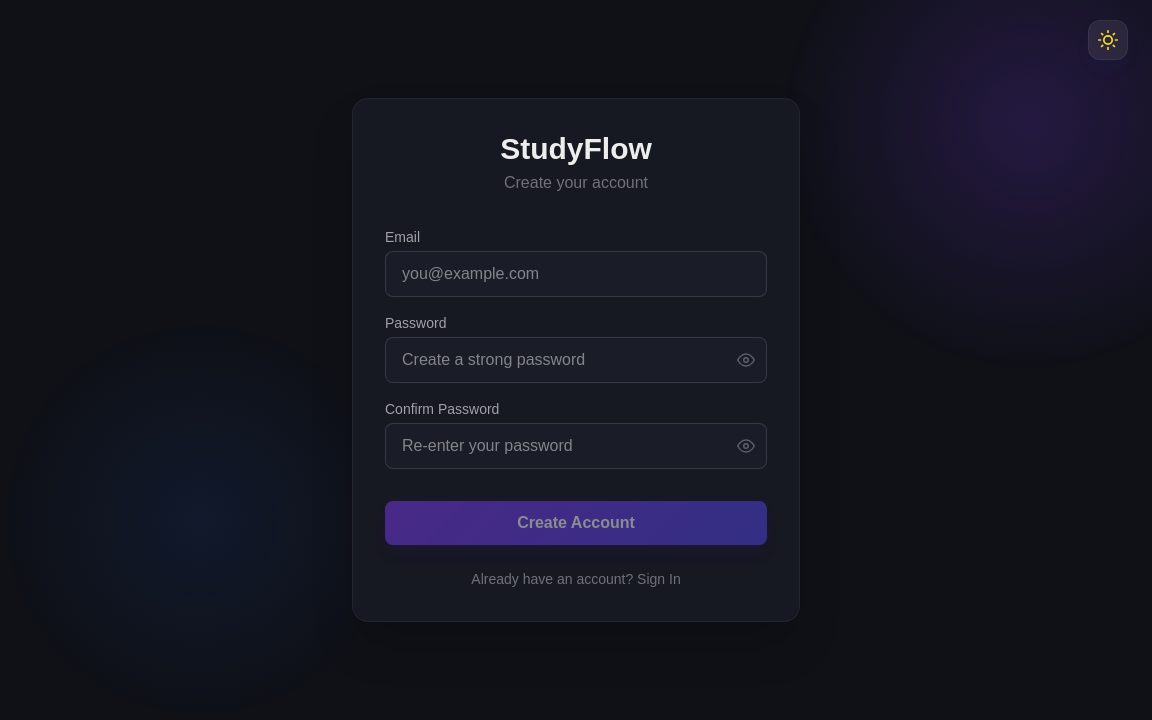
it: RegisterPage › shows password strength bar when typing password
Type "abc" into the password field with placeholder "Create a strong password" at (576, 360), box [385, 337, 767, 383]
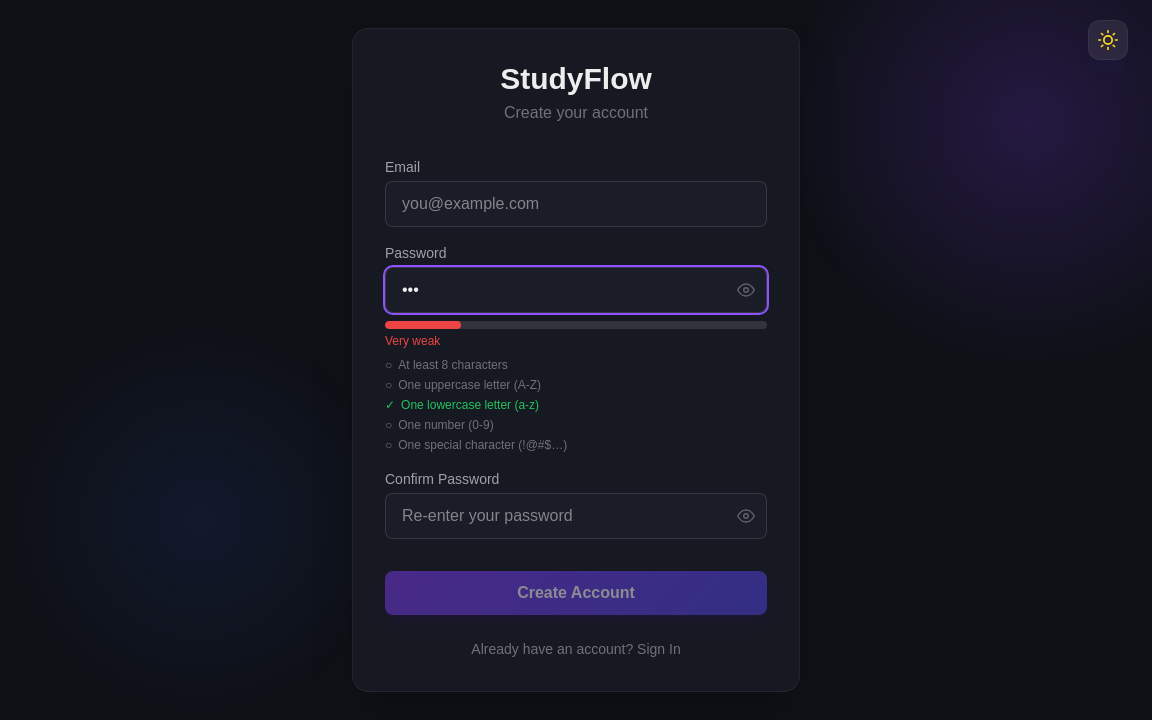
Now the text "Very weak" is shown, box [385, 334, 440, 348]
